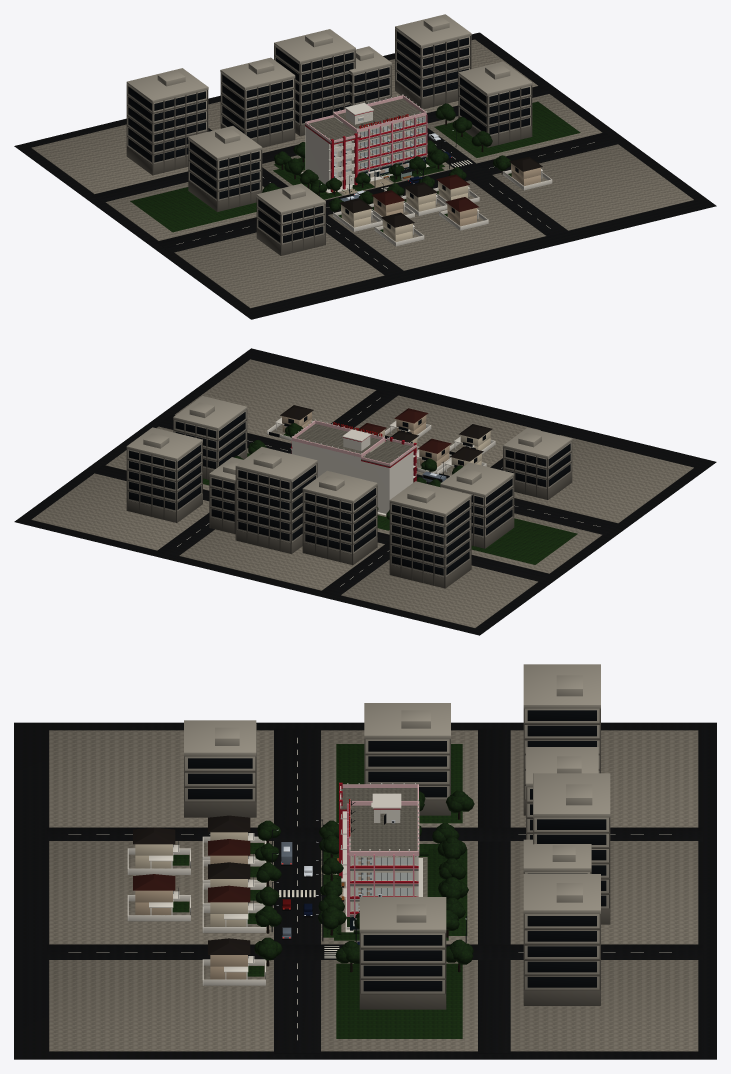
Rendered from electrical_engineering_building.glb.
3 renders of one model, top to bottom at view 1: azimuth 30°, elevation 25°; view 2: azimuth 150°, elevation 25°; view 3: azimuth 270°, elevation 25°, orthographic. The views are drawn at different scales.
Parts seen in each view (by area): view 1: Env_Ground_EarthBase_Unity, Env_Sidewalk_SouthEast_Unity, Env_Sidewalk_SouthWest_Unity, Env_Sidewalk_SouthCentral_Unity, Env_Sidewalk_NorthWest_Unity, Env_Road_FrontAvenue_Unity, Env_CityBldg_07_FarWest2_WinGlass_Unity, Env_Grass_WestPark_Unity, Env_Road_EastAvenue_Unity, Env_CityBldg_01_NorthW_WinGlass_Unity, Env_CityBldg_04_FarEast1_WinGlass_Unity, Env_CityBldg_02_NorthC_WinGlass_Unity (+43 smaller); view 2: Env_Ground_EarthBase_Unity, Env_Sidewalk_SouthWest_Unity, Env_Sidewalk_SouthEast_Unity, Env_Sidewalk_NorthWest_Unity, Env_Sidewalk_NorthEast_Unity, Env_Sidewalk_NorthCentral_Unity, Env_Sidewalk_SouthCentral_Unity, Env_CityBldg_07_FarWest2_WinGlass_Unity, Env_CityBldg_02_NorthC_WinGlass_Unity, Env_CityBldg_04_FarEast1_WinGlass_Unity, Env_CityBldg_01_NorthW_WinGlass_Unity, Env_Grass_WestPark_Unity (+42 smaller); view 3: Env_Ground_EarthBase_Unity, Env_Sidewalk_SouthEast_Unity, Env_Sidewalk_SouthWest_Unity, Env_Sidewalk_NorthEast_Unity, Env_Road_FrontAvenue_Unity, Env_Sidewalk_SouthCentral_Unity, Env_Sidewalk_NorthCentral_Unity, Env_Sidewalk_NorthWest_Unity, Env_Road_NorthService_Unity, Env_Road_EastAvenue_Unity, Env_Grass_EastPark_Unity, Env_Road_WestAvenue_Unity (+44 smaller).
Boxes of the visible parts, box(x1,y1,x2,y2) form: Env_Ground_EarthBase_Unity: box(14, 32, 716, 319); Env_Sidewalk_SouthEast_Unity: box(492, 144, 693, 230); Env_Sidewalk_SouthWest_Unity: box(174, 232, 384, 308); Env_Sidewalk_SouthCentral_Unity: box(328, 180, 545, 270); Env_Sidewalk_NorthWest_Unity: box(31, 124, 188, 194); Env_Road_FrontAvenue_Unity: box(156, 132, 620, 253); Env_CityBldg_07_FarWest2_WinGlass_Unity: box(128, 86, 205, 162); Env_Grass_WestPark_Unity: box(130, 187, 262, 232); Env_Road_EastAvenue_Unity: box(427, 128, 568, 236); Env_CityBldg_01_NorthW_WinGlass_Unity: box(222, 75, 292, 138); Env_CityBldg_04_FarEast1_WinGlass_Unity: box(397, 31, 468, 96); Env_CityBldg_02_NorthC_WinGlass_Unity: box(276, 47, 353, 123); Env_Ground_EarthBase_Unity: box(14, 348, 716, 635); Env_Sidewalk_SouthWest_Unity: box(514, 435, 693, 523); Env_Sidewalk_SouthEast_Unity: box(174, 359, 376, 443); Env_Sidewalk_NorthWest_Unity: box(341, 560, 537, 628); Env_Sidewalk_NorthEast_Unity: box(31, 473, 209, 550); Env_Sidewalk_NorthCentral_Unity: box(179, 529, 384, 590); Env_Sidewalk_SouthCentral_Unity: box(353, 395, 540, 478); Env_CityBldg_07_FarWest2_WinGlass_Unity: box(392, 500, 469, 575); Env_CityBldg_02_NorthC_WinGlass_Unity: box(238, 465, 315, 540); Env_CityBldg_04_FarEast1_WinGlass_Unity: box(129, 444, 201, 509); Env_CityBldg_01_NorthW_WinGlass_Unity: box(305, 488, 375, 552); Env_Grass_WestPark_Unity: box(471, 518, 577, 564); Env_Ground_EarthBase_Unity: box(14, 722, 716, 1059); Env_Sidewalk_SouthEast_Unity: box(49, 960, 273, 1051); Env_Sidewalk_SouthWest_Unity: box(49, 730, 273, 827); Env_Sidewalk_NorthEast_Unity: box(510, 960, 698, 1051); Env_Road_FrontAvenue_Unity: box(274, 728, 320, 1053); Env_Sidewalk_SouthCentral_Unity: box(49, 841, 273, 944); Env_Sidewalk_NorthCentral_Unity: box(510, 841, 698, 944); Env_Sidewalk_NorthWest_Unity: box(510, 730, 698, 827); Env_Road_NorthService_Unity: box(478, 728, 510, 1053); Env_Road_EastAvenue_Unity: box(46, 944, 702, 960); Env_Grass_EastPark_Unity: box(336, 963, 462, 1038); Env_Road_WestAvenue_Unity: box(46, 827, 702, 841).
Bounding box in the file's own units: 170 × 27.94 × 150.
38 materials, 33 textured.
